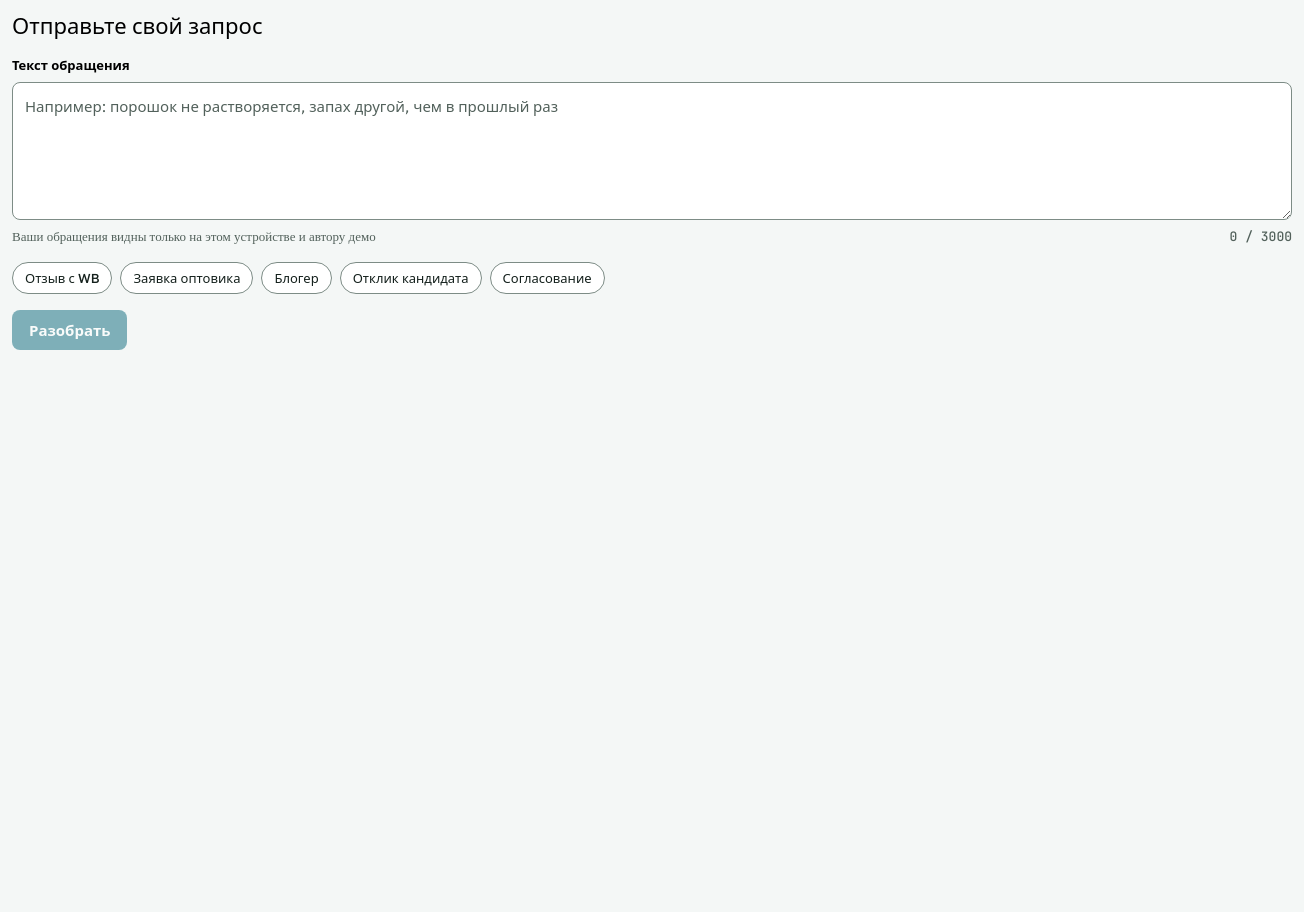
Scenario: Triage › кнопка-пример подставляет текст и запускает разбор с exampleId
Click the button "Отзыв с WB". click: (62,278)
box: 12,262 -> 112,294
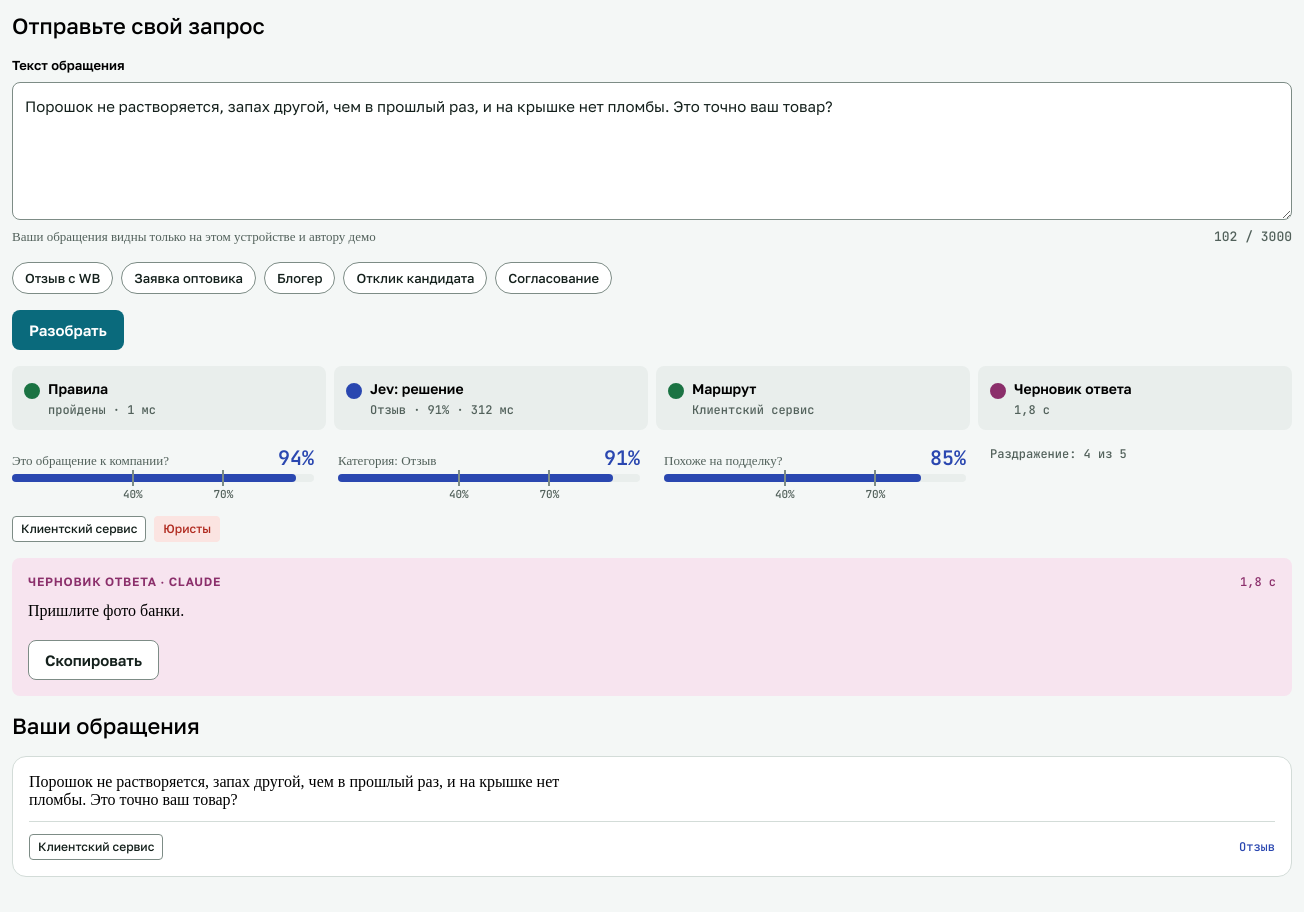
expect the text "Пришлите фото банки." is shown: met, box 28,602 -> 184,619
expect the text "Клиентский сервис" below "Маршрут" is shown: met, box 692,402 -> 814,418
expect the text "Юристы" is shown: met, box 154,516 -> 220,542
